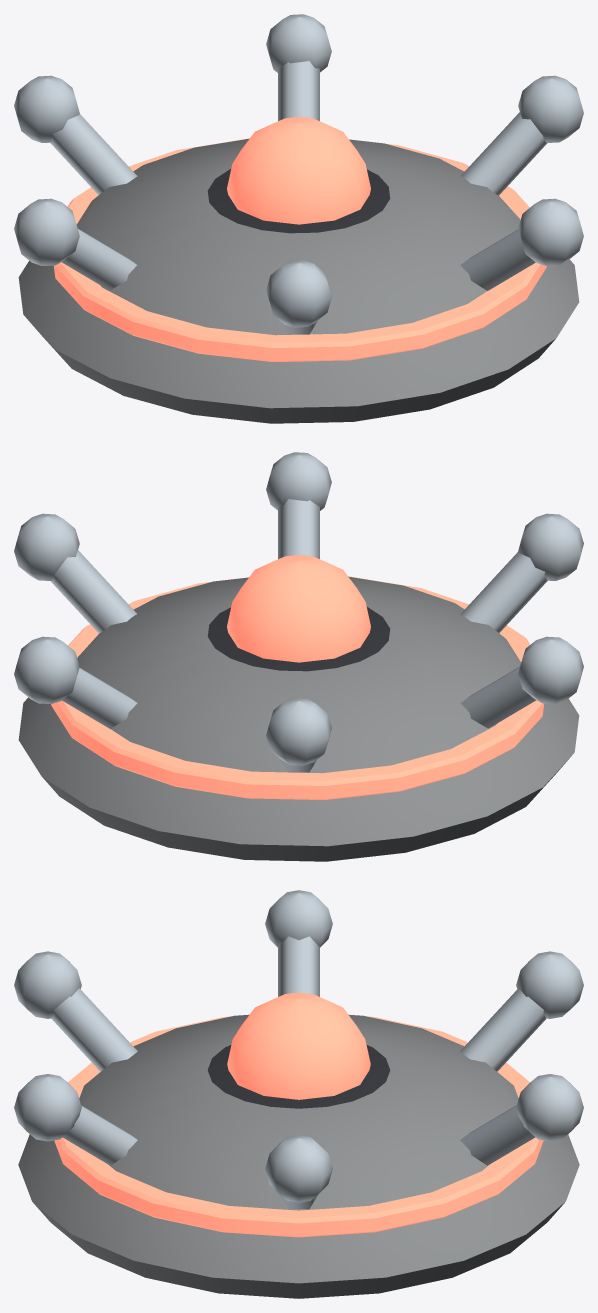
File: R4D_ExplosiveTrap.glb
3 renders of one model, top to bottom at view 1: azimuth 30°, elevation 25°; view 2: azimuth 150°, elevation 25°; view 3: azimuth 270°, elevation 25°, orthographic.
Parts seen in each view (by area): view 1: R4D_ExplosiveTrap_Body, R4D_ExplosiveTrap_Lamp; view 2: R4D_ExplosiveTrap_Body, R4D_ExplosiveTrap_Lamp; view 3: R4D_ExplosiveTrap_Body, R4D_ExplosiveTrap_Lamp.
Boxes of the visible parts, bbox=[...] form: R4D_ExplosiveTrap_Body: bbox=[14, 14, 583, 423]; R4D_ExplosiveTrap_Lamp: bbox=[227, 116, 370, 224]; R4D_ExplosiveTrap_Body: bbox=[14, 452, 583, 861]; R4D_ExplosiveTrap_Lamp: bbox=[227, 554, 370, 662]; R4D_ExplosiveTrap_Body: bbox=[14, 890, 583, 1298]; R4D_ExplosiveTrap_Lamp: bbox=[227, 992, 370, 1099].
Bounding box in the file's own units: 0.496 × 0.16 × 0.4365.
